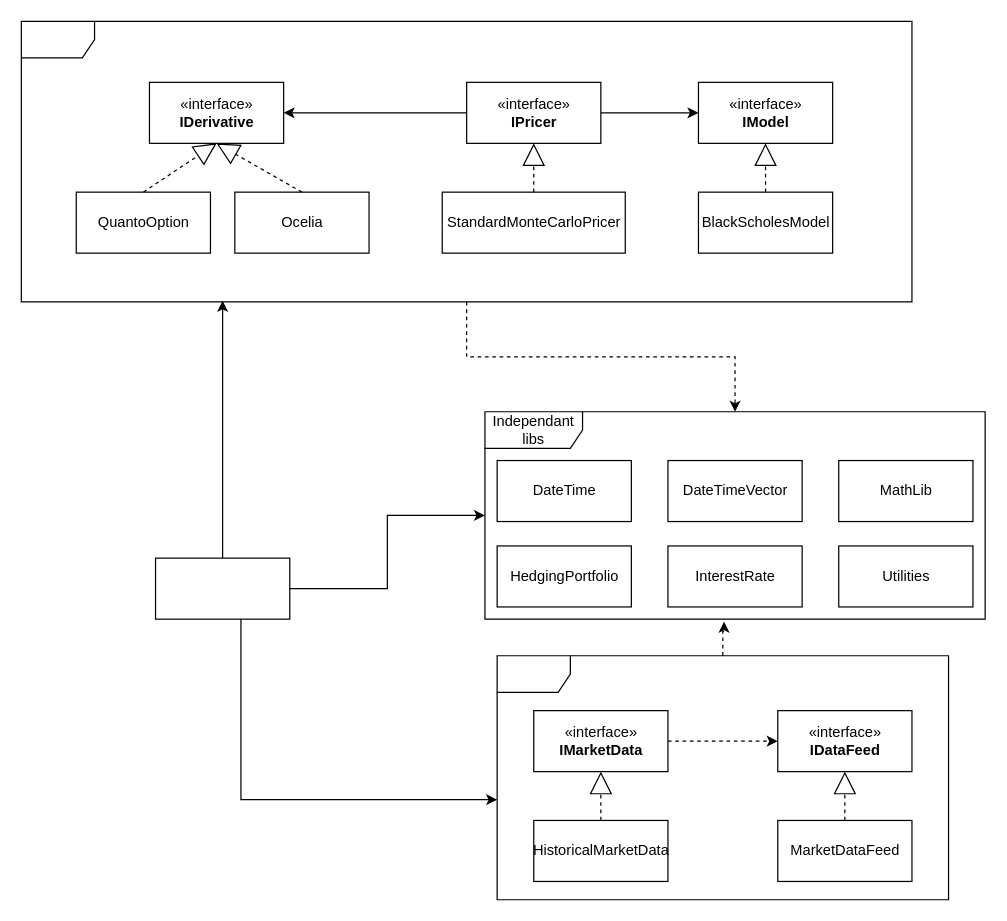
Some shapes in this 1007 by 921 pixel diagram are drawn without their labels. The box of each missing label's shape, as (x1, y1, x2, y2) in pixels:
main: (154, 557, 290, 619)
Market Data: (496, 655, 949, 900)
Pricer: (20, 20, 912, 302)
